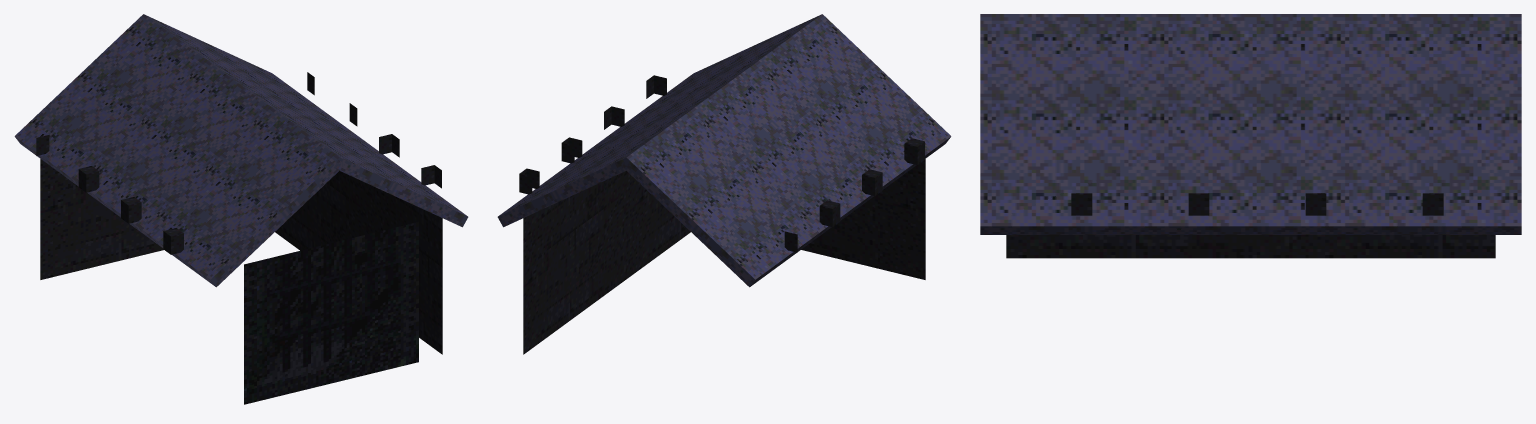
3 views of the same model, side by side, from view 1: azimuth 30°, elevation 25°; view 2: azimuth 150°, elevation 25°; view 3: azimuth 270°, elevation 25° (orthographic). The views are drawn at different scales.
Visible parts, largest first — view 1: b_48_18; view 2: b_48_18; view 3: b_48_18.
Part boxes in pixels (x1,y1,x2,y2): b_48_18: [14, 14, 468, 404]; b_48_18: [497, 14, 951, 354]; b_48_18: [980, 14, 1521, 258].
Size of the model in its own units: 4.65 by 3.8 by 5.82.
Materials: 3 (3 with a texture image).
